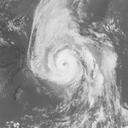cyclone: (37, 31, 95, 84)
